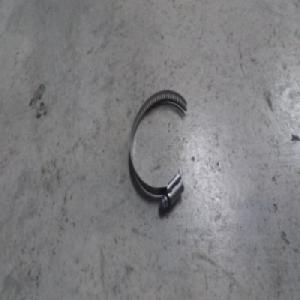AdjustableClamp: (129, 86, 193, 205)
